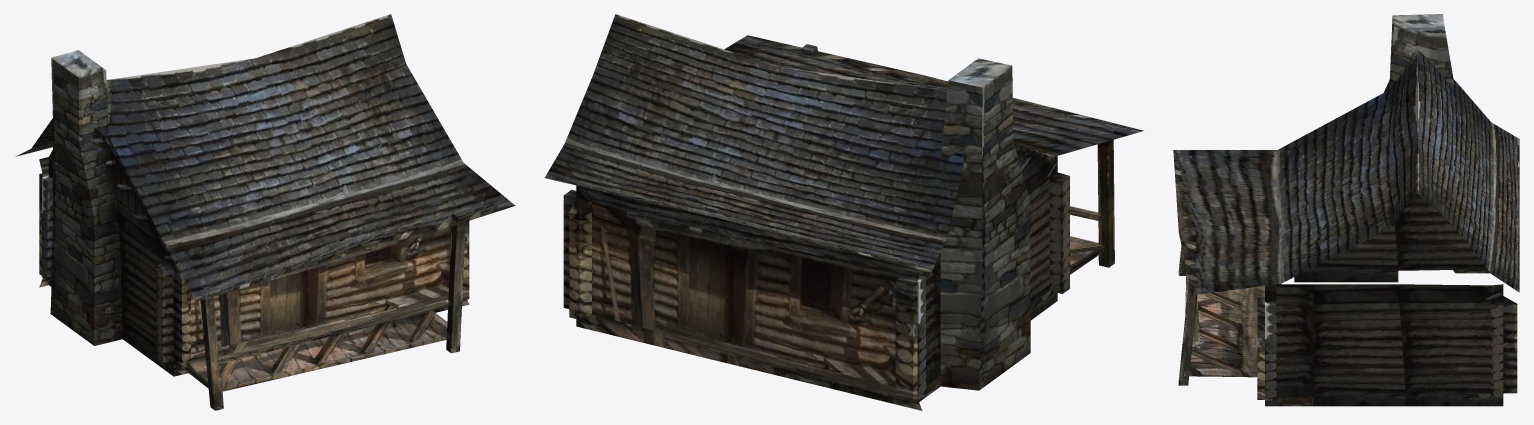
3 renders of one model, left to right at view 1: azimuth 30°, elevation 25°; view 2: azimuth 150°, elevation 25°; view 3: azimuth 270°, elevation 25°, orthographic. The views are drawn at different scales.
Visible parts, largest first — view 1: h13; view 2: h13; view 3: h13.
Part boxes in pixels (x1,y1,x2,y2): h13: (15, 14, 515, 410); h13: (544, 14, 1143, 410); h13: (1173, 14, 1519, 406).
Size of the model in its own units: 1.94 by 1.43 by 1.83.
Materials: 1 (1 with a texture image).
